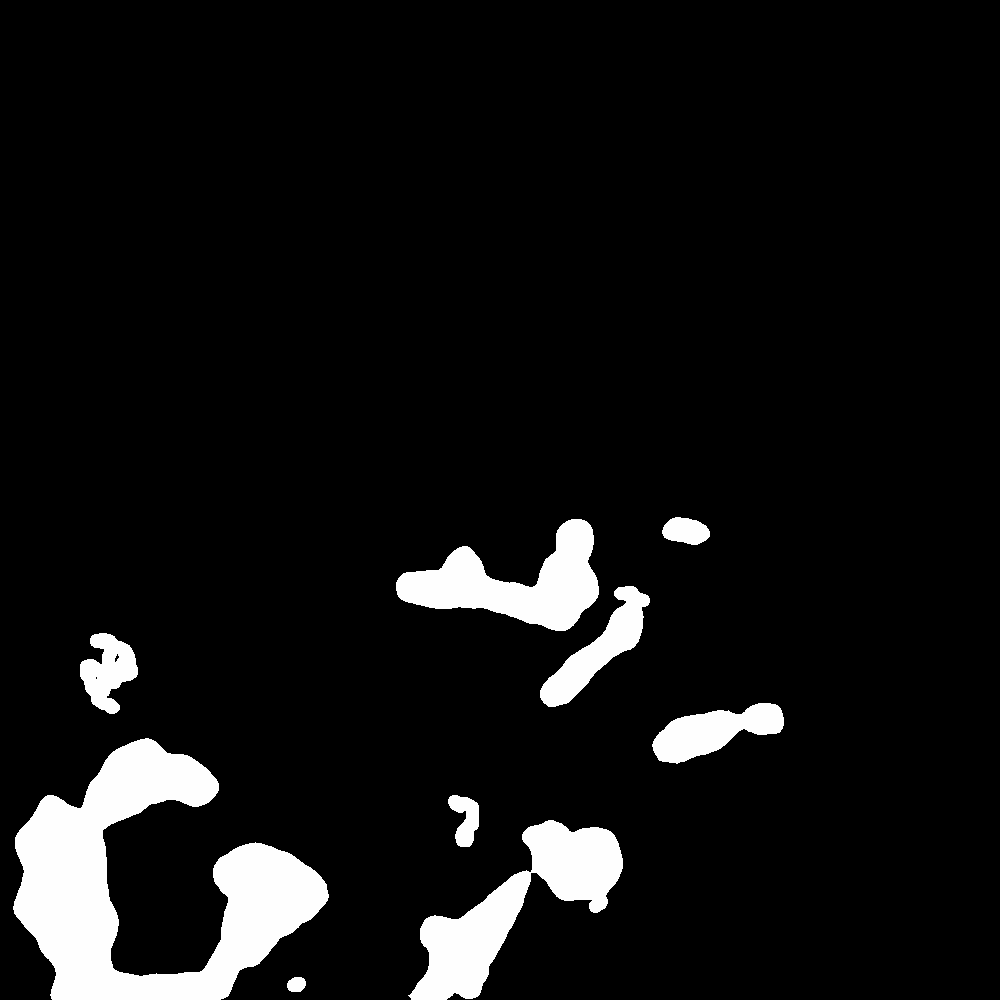illegal: (17, 738, 326, 1000), (415, 824, 625, 1000), (399, 517, 597, 629), (546, 576, 661, 702), (658, 692, 784, 765), (75, 629, 160, 719), (662, 510, 718, 542)
